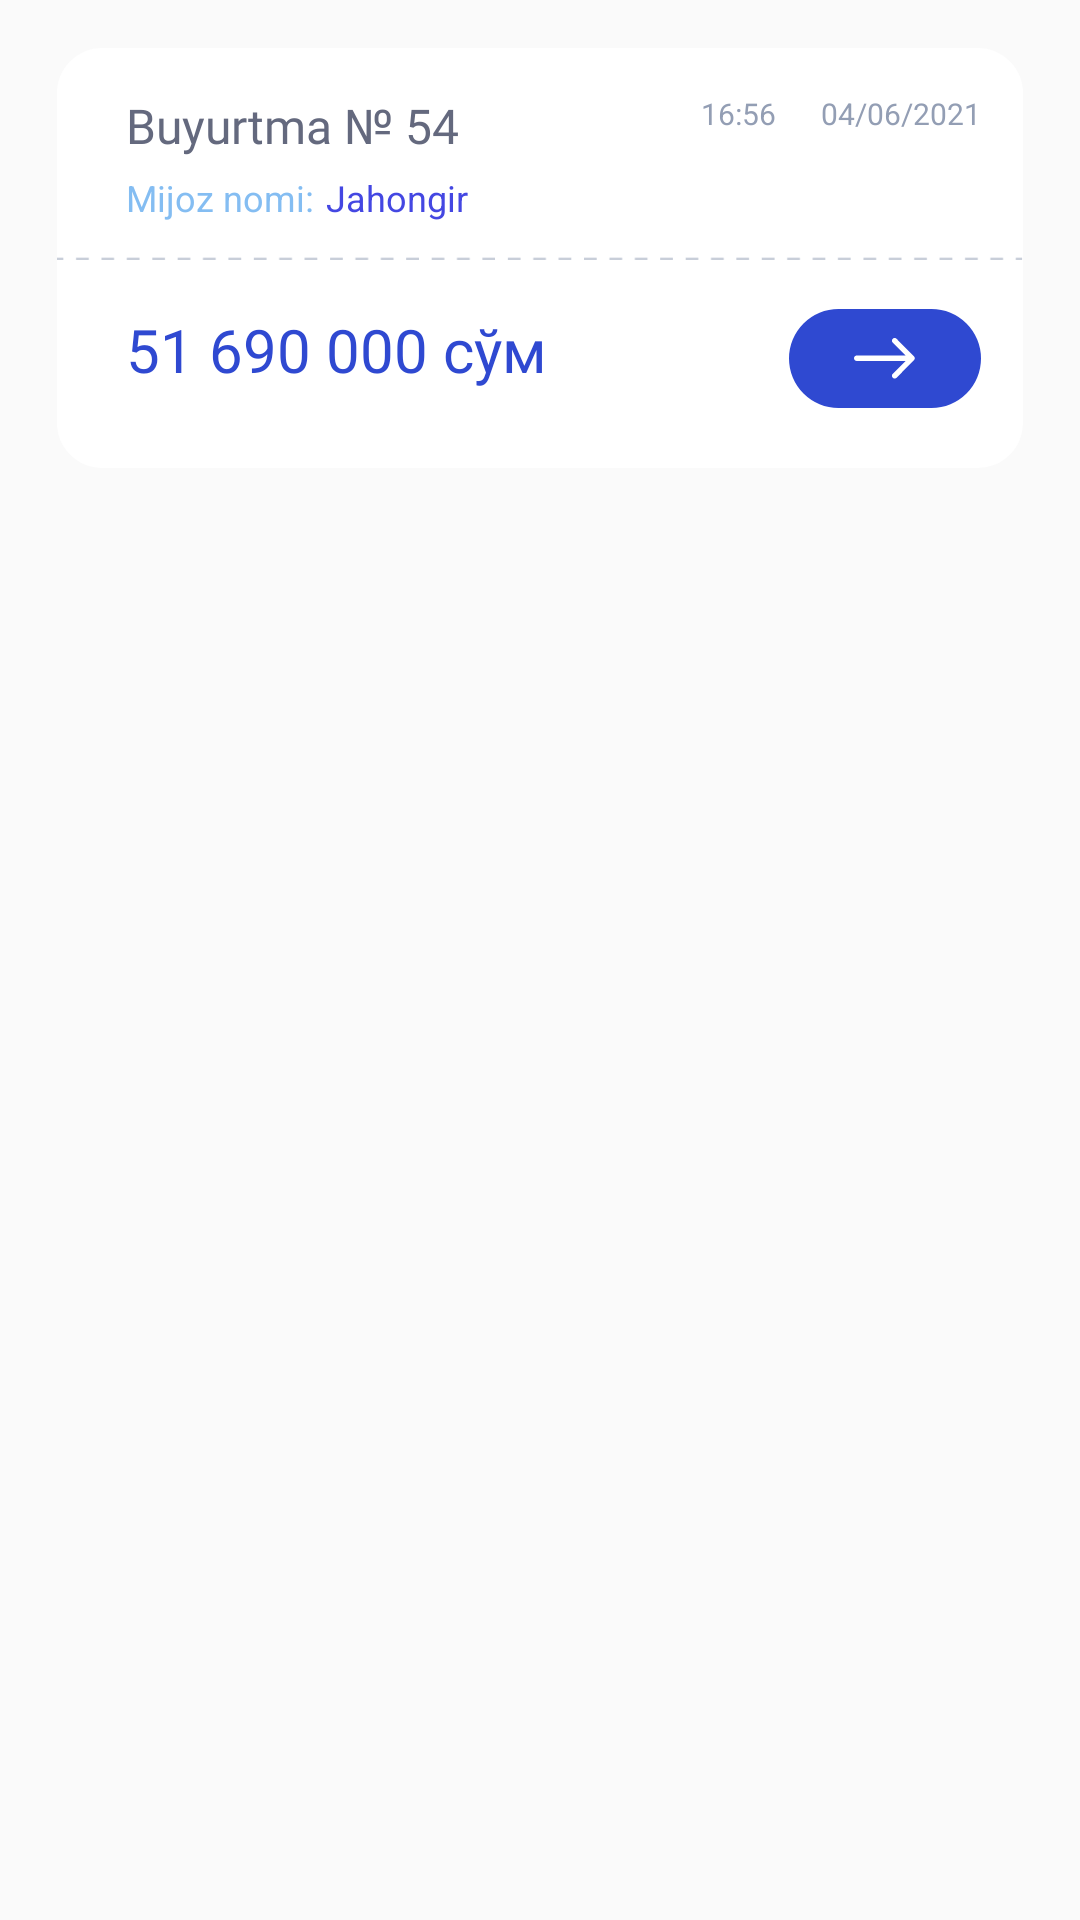

Icons on this 1080 × 1920 Android screen, each with the point to tap as (x=x, y=y):
enter: (x=885, y=358)
